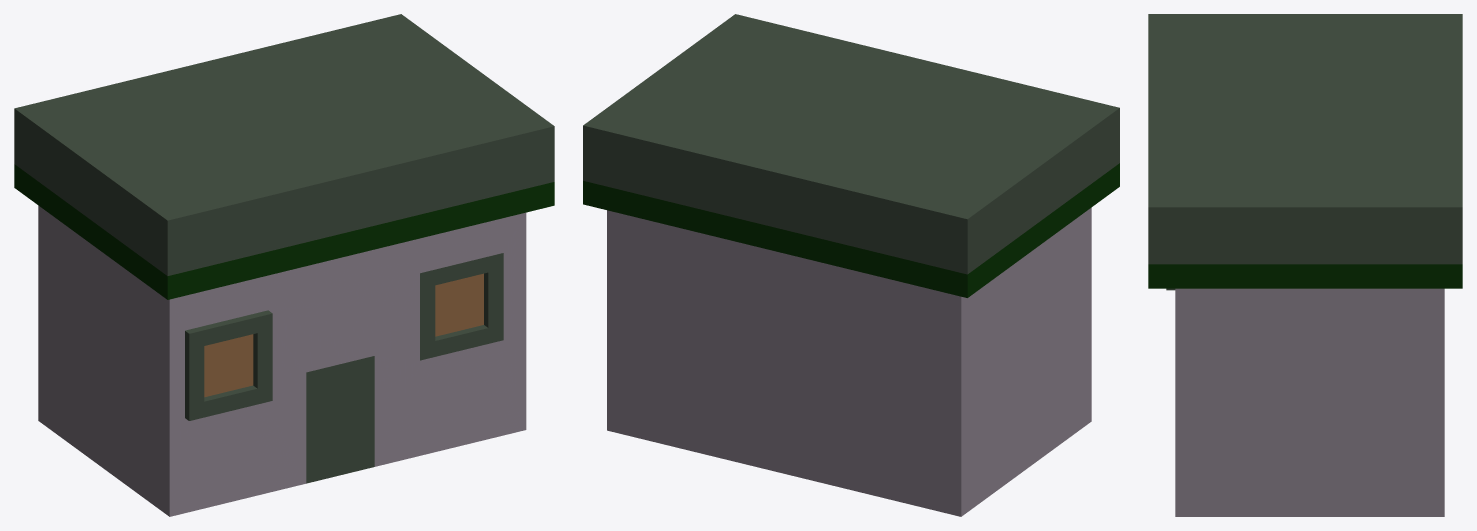
Rendered from house4.obj.
3 views of the same model, side by side, from view 1: azimuth 30°, elevation 25°; view 2: azimuth 150°, elevation 25°; view 3: azimuth 270°, elevation 25° (orthographic). The views are drawn at different scales.
Bounding box in the file's own units: 5.1 × 3.9 × 3.5.
1 material, 1 textured.
